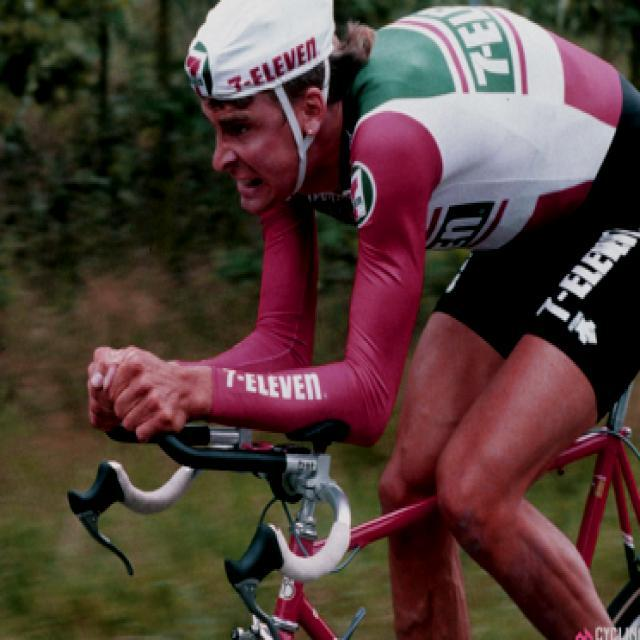Helmet: (172, 0, 337, 234)
